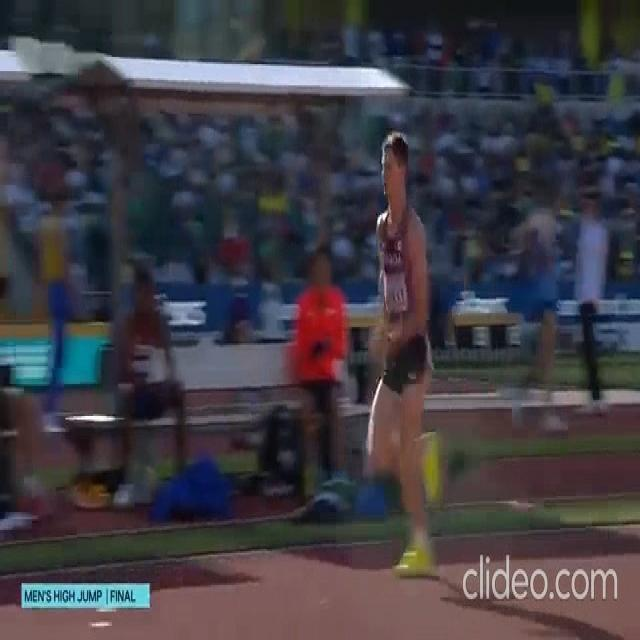run: (366, 133, 439, 575)
